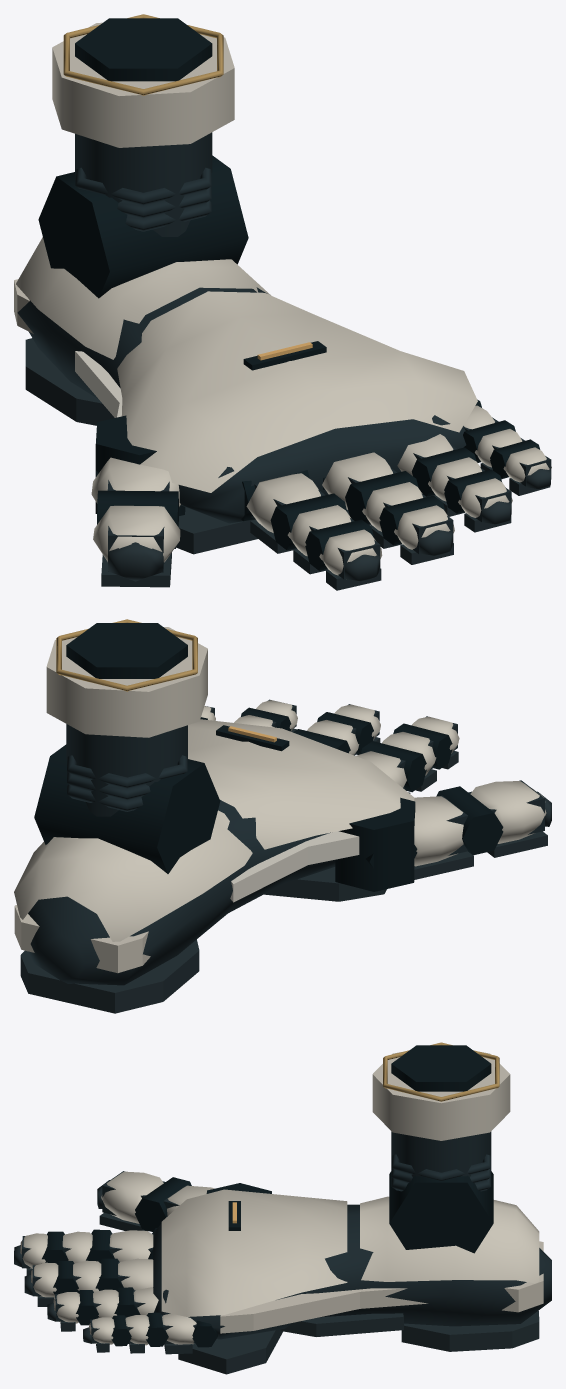
Rendered from nisoku02foot_d0_lod2.glb.
3 views of the same model, one above another, from view 1: azimuth 30°, elevation 25°; view 2: azimuth 150°, elevation 25°; view 3: azimuth 270°, elevation 25° (orthographic). The views are drawn at different scales.
Parts seen in each view (by area): view 1: NISOKU_DISTANCE_GEOMETRY; view 2: NISOKU_DISTANCE_GEOMETRY; view 3: NISOKU_DISTANCE_GEOMETRY.
Boxes of the visible parts, x1,y1,x2,y2 form: NISOKU_DISTANCE_GEOMETRY: (14,14,551,590); NISOKU_DISTANCE_GEOMETRY: (14,619,551,1013); NISOKU_DISTANCE_GEOMETRY: (14,1042,551,1374).
Bounding box in the file's own units: 0.1748 × 0.137 × 0.2578.
